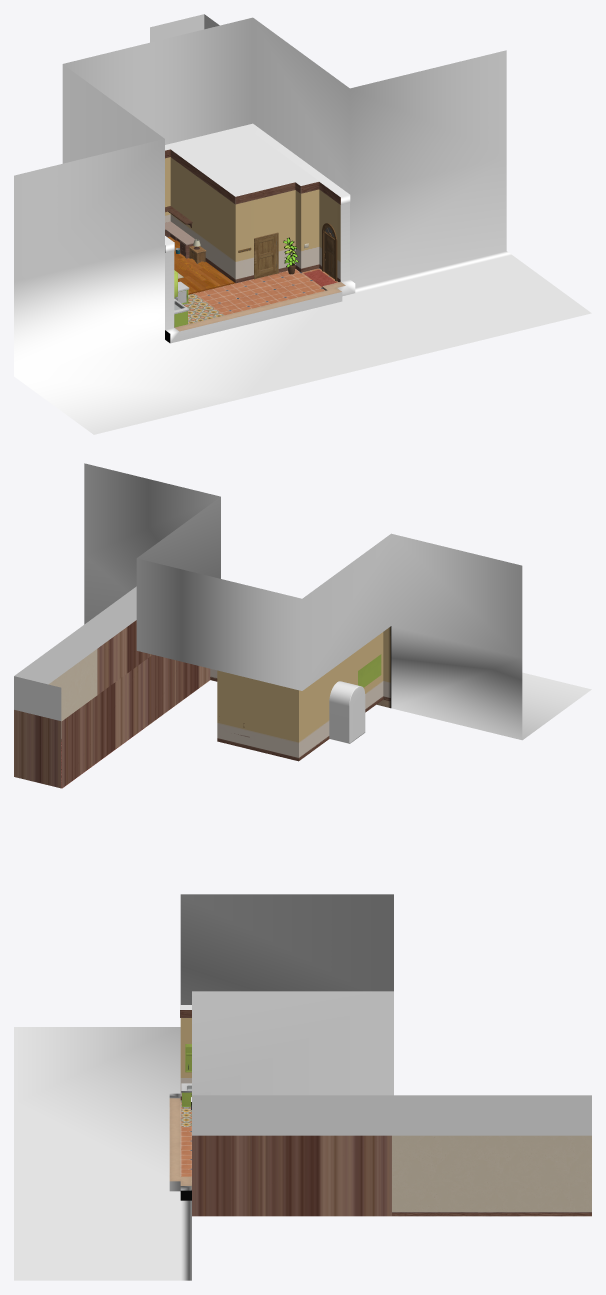
File: a_sch_dorm01.gltf
3 views of the same model, one above another, from view 1: azimuth 30°, elevation 25°; view 2: azimuth 150°, elevation 25°; view 3: azimuth 270°, elevation 25° (orthographic). The views are drawn at different scales.
Parts seen in each view (by area): view 1: nomerge_room_out01_shape:a_sch_dorm01_outside01, um_a_sch_dorm01_model_a_sch_dorm01_modelShape:a_sch_dorm01_w, um_a_sch_dorm01_model_a_sch_dorm01_modelShape:a_sch_dorm01_f (×2), nomerge_room_walltop01_shape:a_sch_dorm01_walltop01, nomerge_outside_edge_shape:mat_texture_edge01, um_a_sch_dorm01_model_a_sch_dorm01_modelShape:a_sch_dorm01_d (×2), nomerge_room_out02_shape:a_sch_dorm01_outside01, um_a_sch_dorm01_model_a_sch_dorm01_modelShape:a_sch_dorm01_b; view 2: nomerge_room_out01_shape:a_sch_dorm01_outside01, um_a_sch_dorm01_model_a_sch_dorm01_modelShape:a_sch_dorm01_c, um_a_sch_dorm01_model_a_sch_dorm01_modelShape:a_sch_dorm01_w, nomerge_room_out02_shape:a_sch_dorm01_outside01, nomerge_a_sch_dorm01_outside_emv_mesh_shape:a_sch_class1a_ou, um_a_sch_dorm01_model_a_sch_dorm01_modelShape:a_sch_dorm01_k; view 3: nomerge_room_out01_shape:a_sch_dorm01_outside01, um_a_sch_dorm01_model_a_sch_dorm01_modelShape:a_sch_dorm01_c, nomerge_room_out02_shape:a_sch_dorm01_outside01, um_a_sch_dorm01_model_a_sch_dorm01_modelShape:a_sch_dorm01_w, um_a_sch_dorm01_model_a_sch_dorm01_modelShape:a_sch_dorm01_f.
Boxes of the visible parts, bbox=[...] form: nomerge_room_out01_shape:a_sch_dorm01_outside01: bbox=[14, 17, 591, 434]; um_a_sch_dorm01_model_a_sch_dorm01_modelShape:a_sch_dorm01_w: bbox=[165, 149, 345, 342]; um_a_sch_dorm01_model_a_sch_dorm01_modelShape:a_sch_dorm01_f (×2): bbox=[168, 237, 338, 324]; nomerge_room_walltop01_shape:a_sch_dorm01_walltop01: bbox=[165, 130, 340, 242]; nomerge_outside_edge_shape:mat_texture_edge01: bbox=[165, 123, 355, 343]; um_a_sch_dorm01_model_a_sch_dorm01_modelShape:a_sch_dorm01_d (×2): bbox=[254, 223, 337, 281]; nomerge_room_out02_shape:a_sch_dorm01_outside01: bbox=[150, 14, 219, 42]; um_a_sch_dorm01_model_a_sch_dorm01_modelShape:a_sch_dorm01_b: bbox=[174, 281, 189, 327]; nomerge_room_out01_shape:a_sch_dorm01_outside01: bbox=[84, 463, 591, 740]; um_a_sch_dorm01_model_a_sch_dorm01_modelShape:a_sch_dorm01_c: bbox=[14, 620, 210, 788]; um_a_sch_dorm01_model_a_sch_dorm01_modelShape:a_sch_dorm01_w: bbox=[210, 626, 391, 761]; nomerge_room_out02_shape:a_sch_dorm01_outside01: bbox=[14, 586, 136, 720]; nomerge_a_sch_dorm01_outside_emv_mesh_shape:a_sch_class1a_ou: bbox=[329, 681, 365, 743]; um_a_sch_dorm01_model_a_sch_dorm01_modelShape:a_sch_dorm01_k: bbox=[358, 654, 381, 687]; nomerge_room_out01_shape:a_sch_dorm01_outside01: bbox=[14, 894, 393, 1280]; um_a_sch_dorm01_model_a_sch_dorm01_modelShape:a_sch_dorm01_c: bbox=[192, 1135, 591, 1216]; nomerge_room_out02_shape:a_sch_dorm01_outside01: bbox=[192, 1095, 591, 1135]; um_a_sch_dorm01_model_a_sch_dorm01_modelShape:a_sch_dorm01_w: bbox=[169, 1010, 191, 1200]; um_a_sch_dorm01_model_a_sch_dorm01_modelShape:a_sch_dorm01_f: bbox=[180, 1100, 191, 1176].
Bounding box in the file's own units: 27 × 10.4 × 26.
32 materials, 26 textured.
